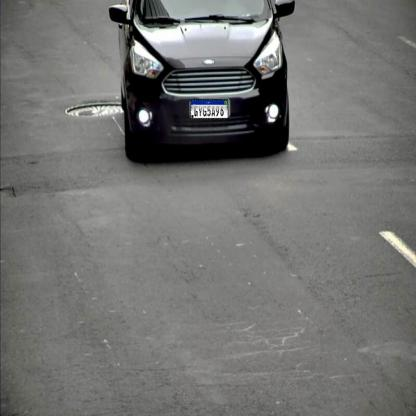PlacaM: (191, 99, 228, 119)
